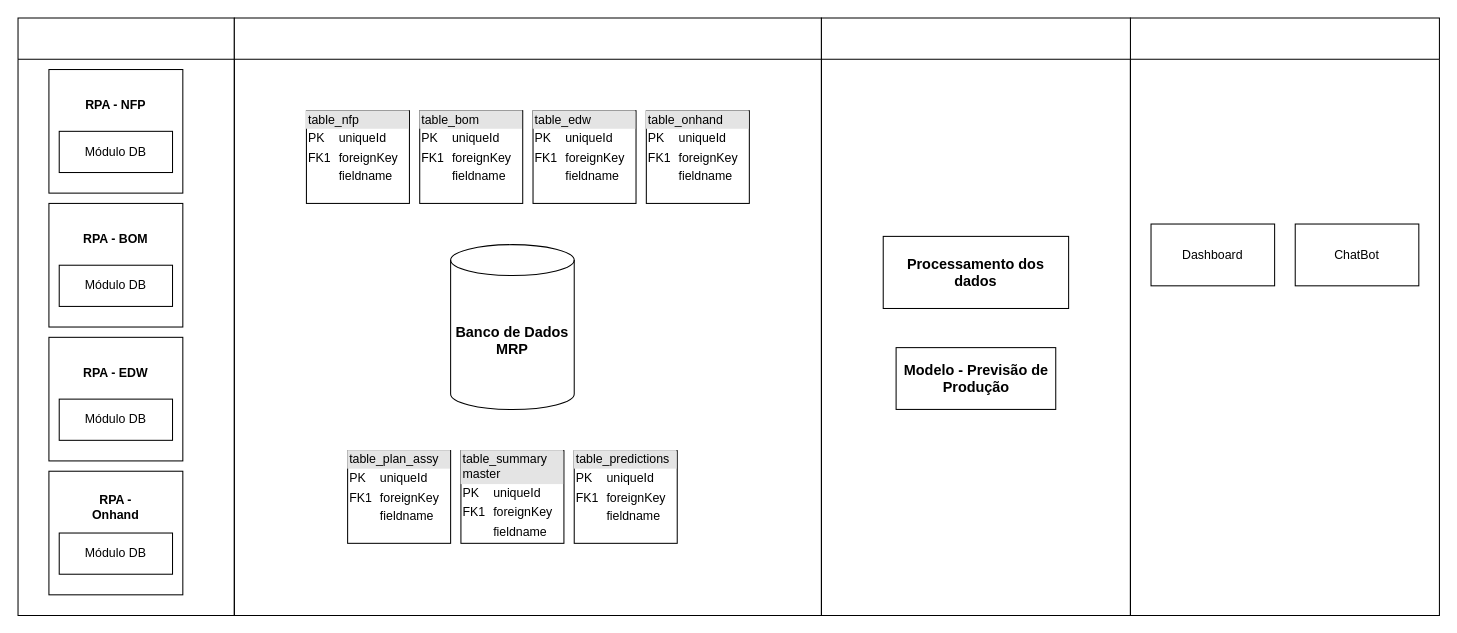
The diagram is 1457 pixels wide and 633 high, and some of its shapes have lost their labels. Here are the shapes that lost their labels. From the top down, the box of each, then its label:
(17, 17, 234, 615): ETL (Extração, Transformação e Carga
(233, 17, 821, 615): Armazenamento - Banco de Dados
(820, 17, 1130, 615): Algoritmo de Predição
(1129, 17, 1439, 615): Consumo de Dados e Visualização
